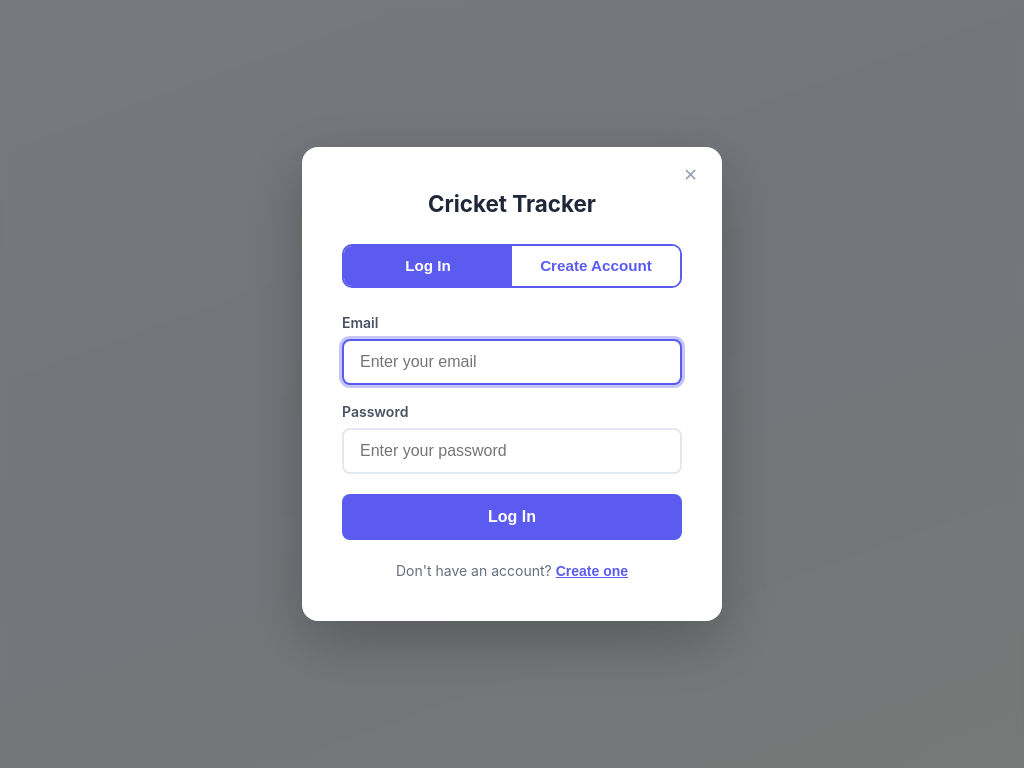
Test: AuthModal submission › shows an error when register passwords do not match
The width and height of the screenshot is (1024, 768).
Click the tab "Create Account" at (596, 266), box [512, 246, 680, 286]
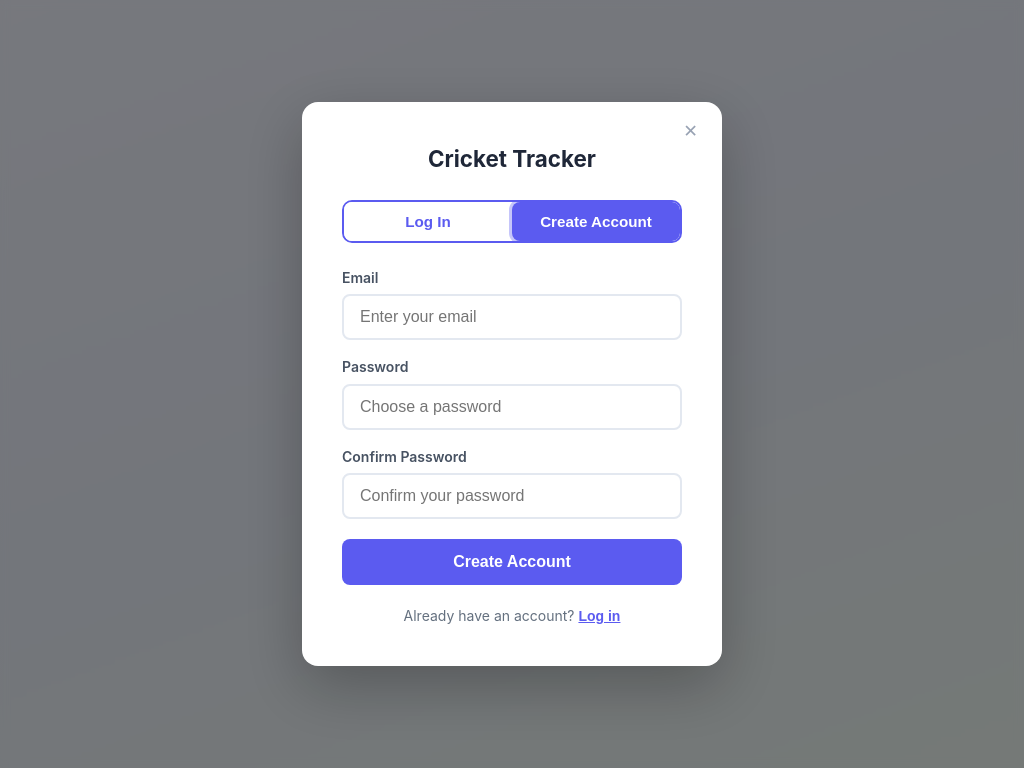
Type "a@b.com" into the field labelled "Email" at (512, 317), box [342, 294, 682, 340]
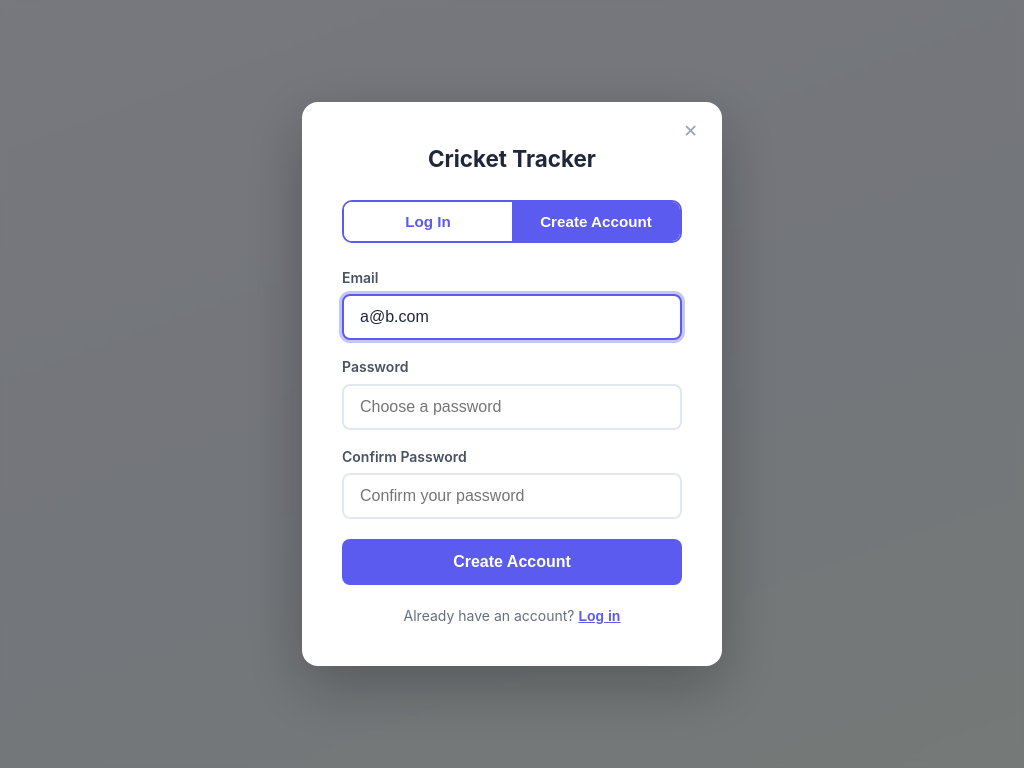
Type "secret1" into the password field labelled "Password" at (512, 407), box [342, 384, 682, 430]
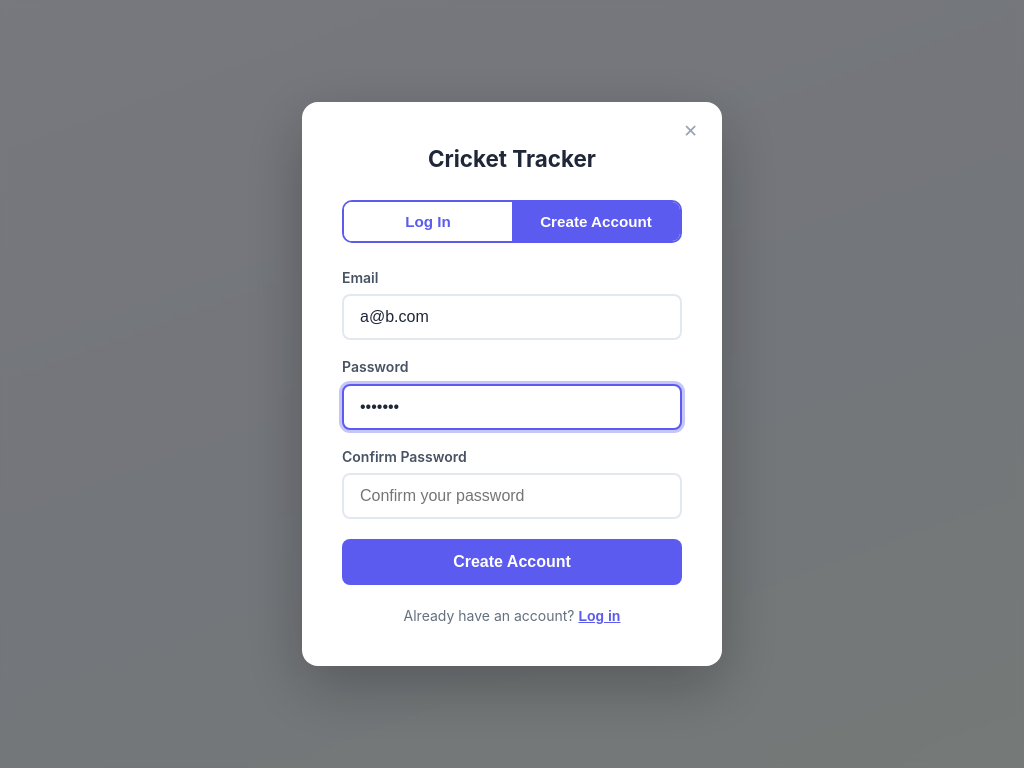
Type "secret2" into the password field labelled "Confirm Password" at (512, 496), box [342, 473, 682, 519]
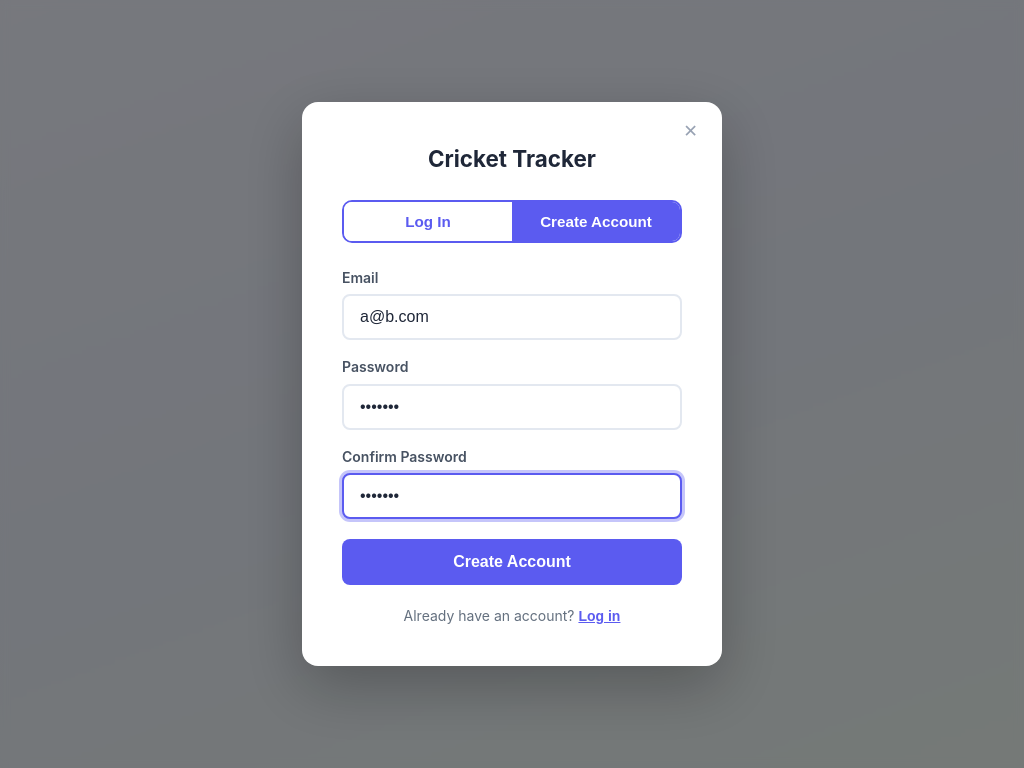
Click the button "Create Account" at (512, 562), box [342, 539, 682, 585]
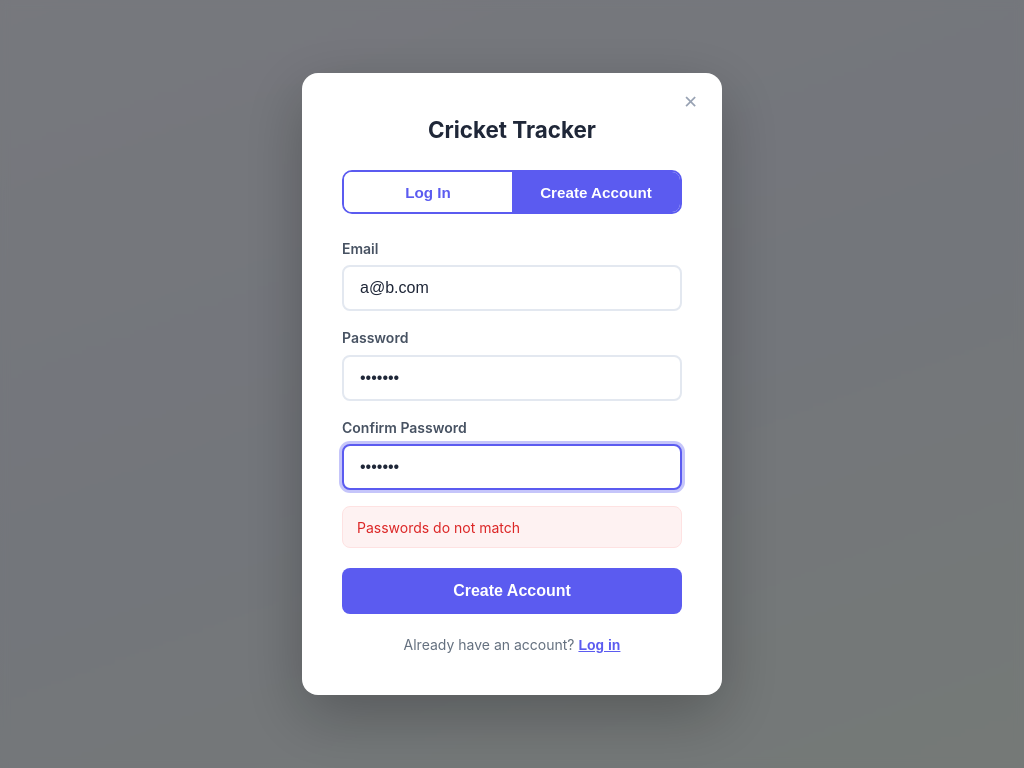
Now the message shows "do not match", box [357, 519, 520, 536]
